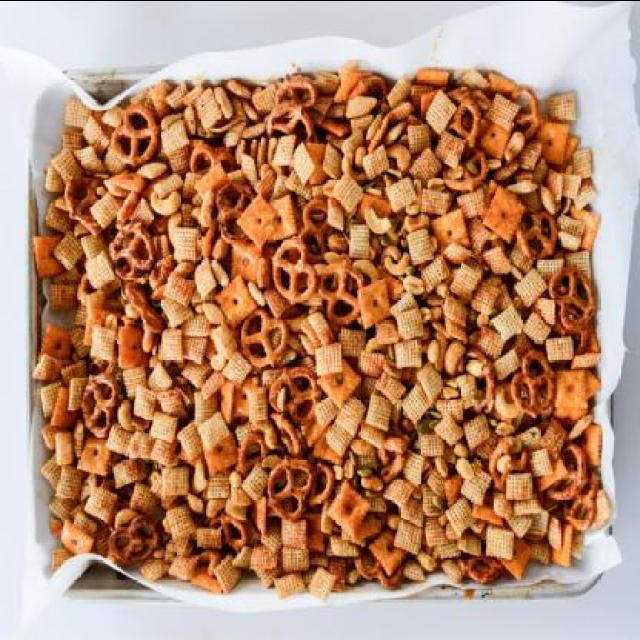Salatini packaged: (57, 67, 595, 567)
